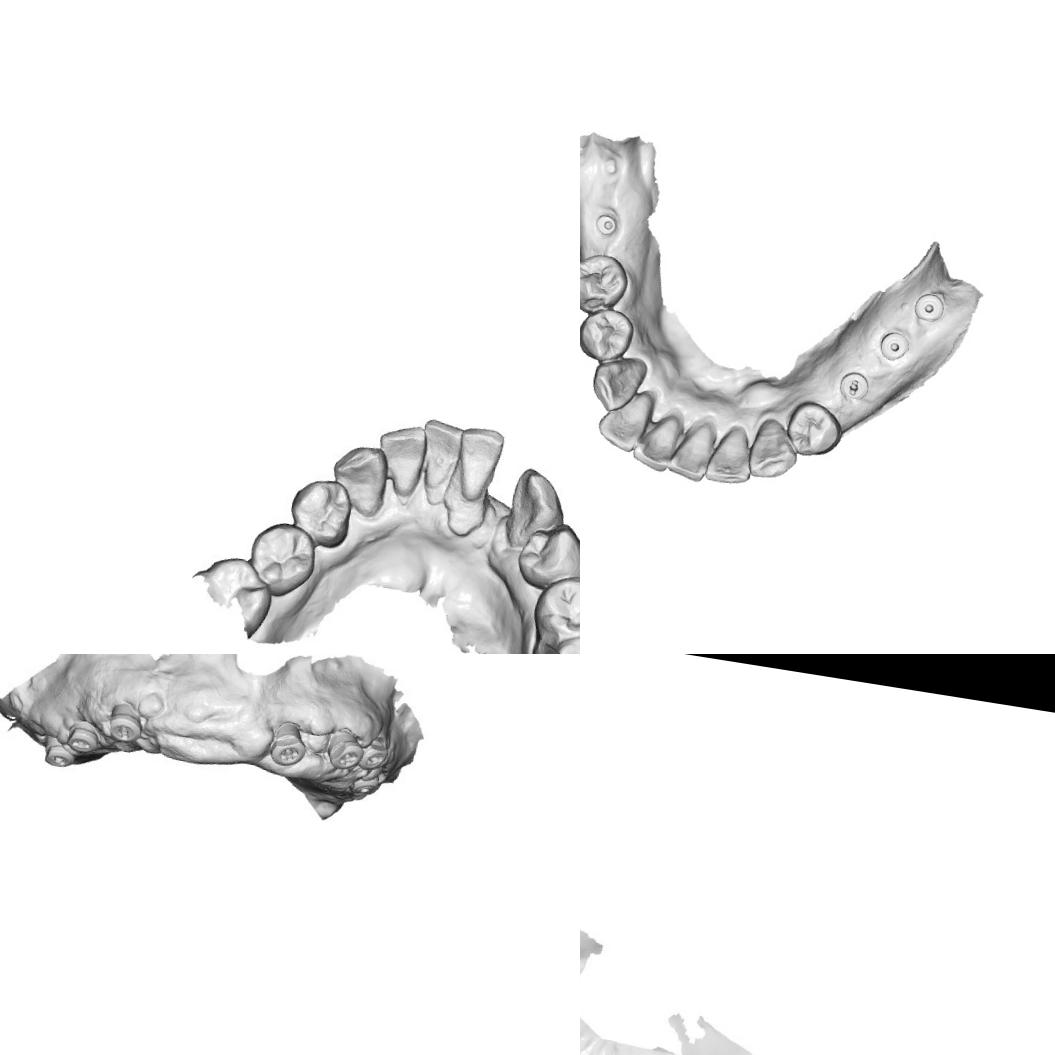canine: (498, 462, 570, 555), (325, 440, 396, 522), (586, 350, 650, 418), (744, 415, 804, 484)
implant: (909, 288, 950, 328), (876, 326, 914, 366)
implant_minus: (104, 706, 148, 754), (60, 719, 100, 759), (360, 736, 396, 774), (836, 367, 872, 404), (38, 744, 74, 778)
implant_plus: (263, 720, 308, 770), (322, 726, 368, 774)
incisor: (594, 384, 657, 456), (453, 424, 506, 506), (376, 425, 432, 501), (628, 407, 685, 475), (703, 420, 759, 488), (419, 420, 466, 500), (664, 416, 718, 485)
premolar: (242, 516, 327, 604), (284, 474, 360, 552), (513, 515, 580, 601), (519, 570, 580, 654), (780, 396, 848, 461), (580, 302, 638, 368), (580, 248, 632, 321)
